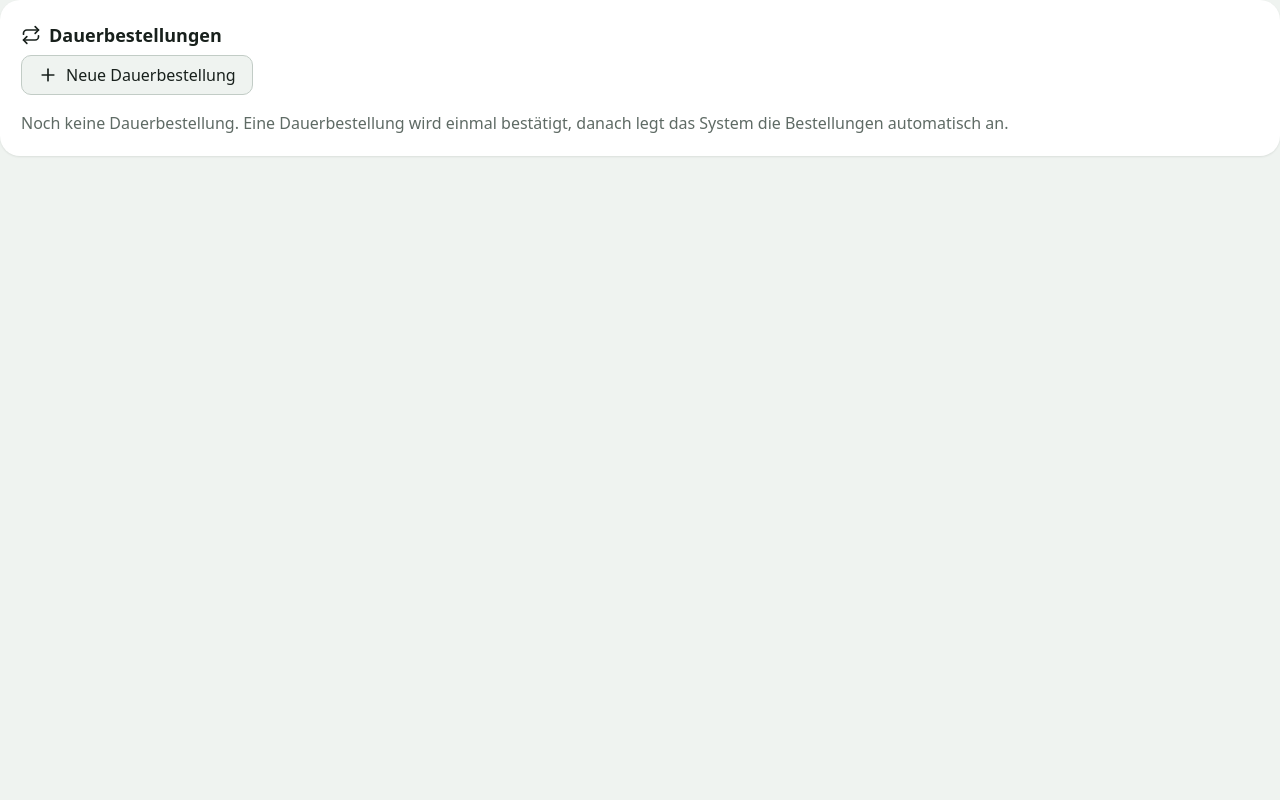
Test case: RecurringOrdersCard (NUD-149, NUD-171) › sends own rows of a selected day as dayItems and drops them when the day is unchecked
Later steps or results of the test are not shown.
Click the button with test id "recurring-new".
click(137, 75)  # box [21, 55, 253, 95]
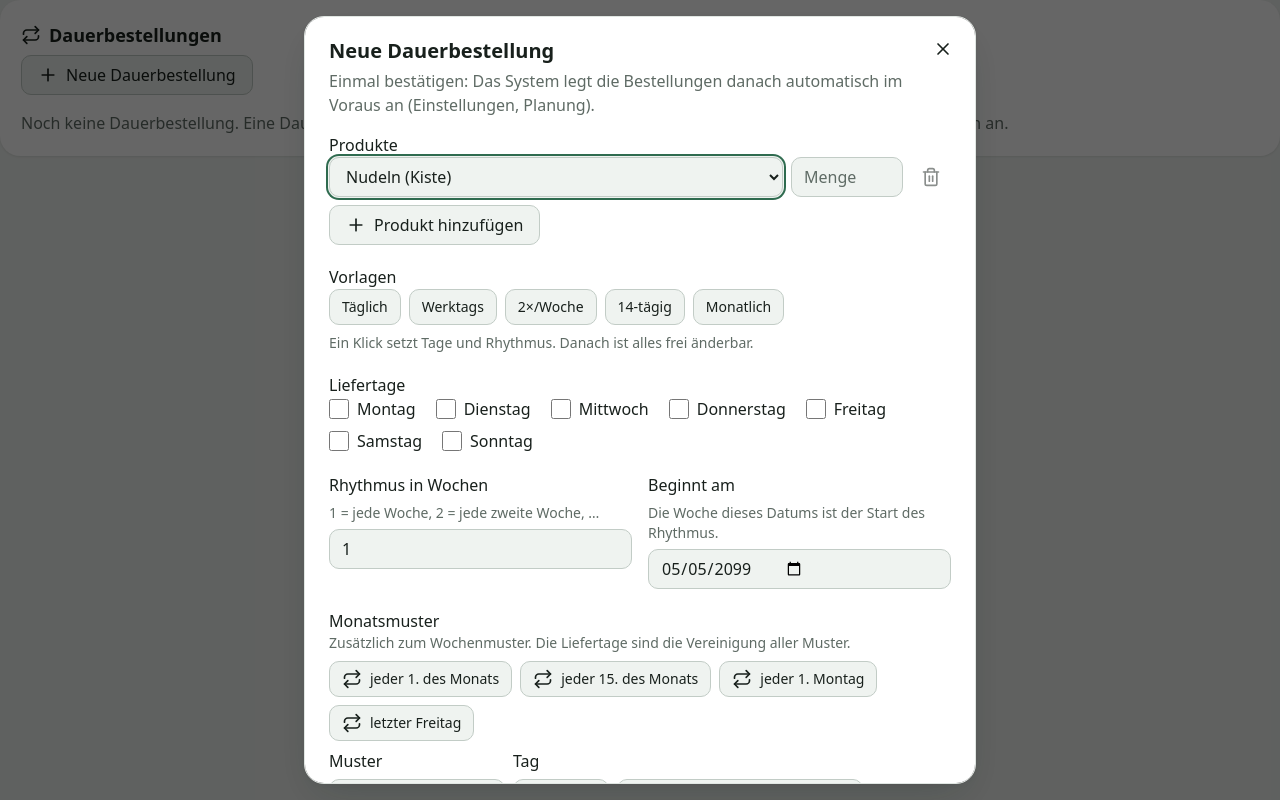
Select "Nudeln (Kiste)" in the dropdown with test id "recurring-line-product" at (556, 177), box [329, 157, 783, 197]
Type "2" into the field with test id "recurring-line-quantity".
click(847, 177); type("2")  # box [791, 157, 903, 197]
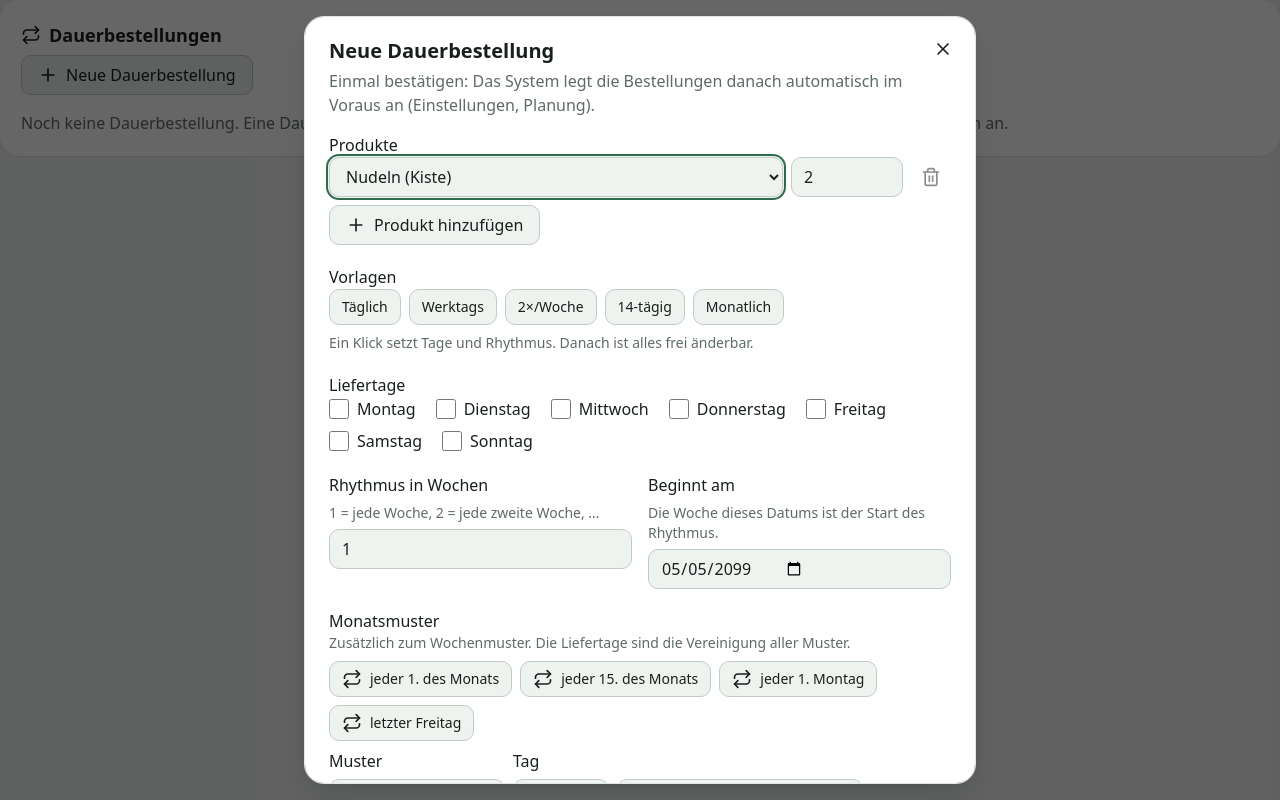
Click the checkbox with test id "recurring-weekday-2".
click(446, 409)  # box [436, 399, 456, 419]
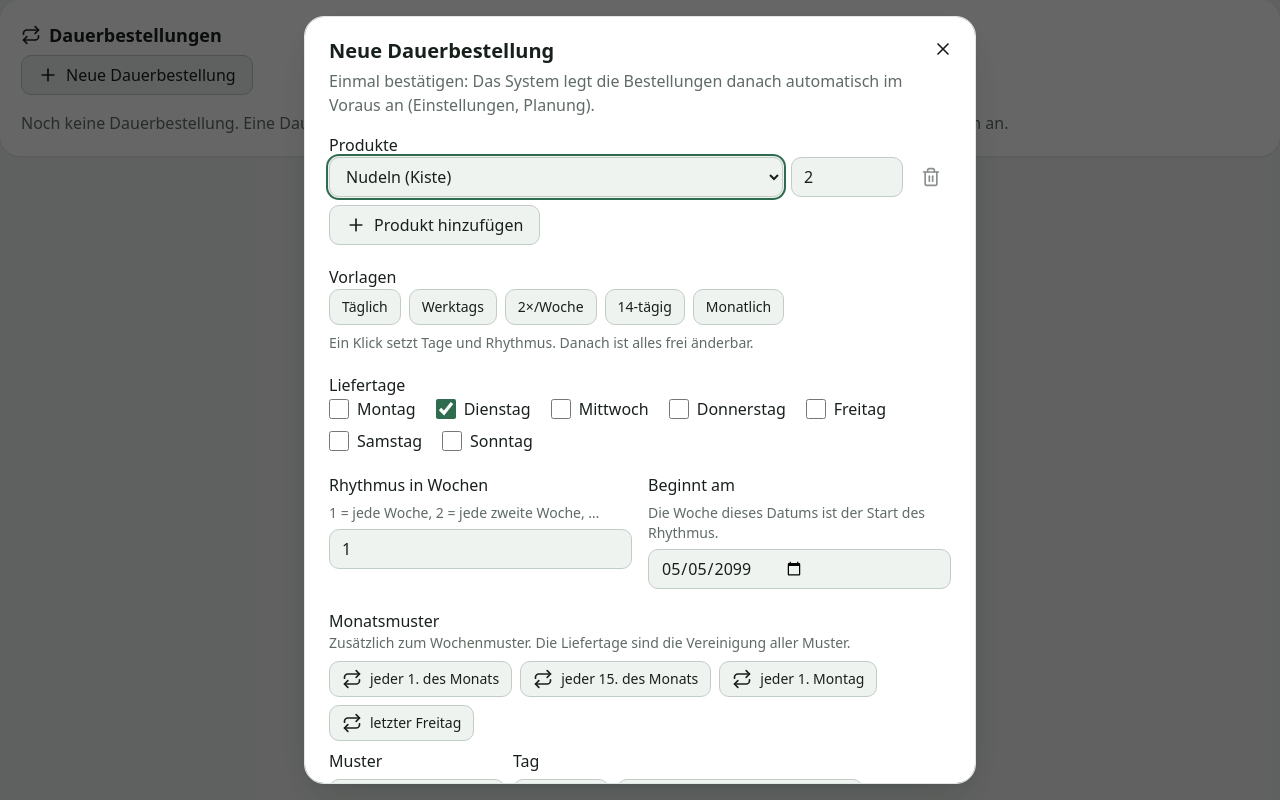
Click the checkbox with test id "recurring-weekday-4".
click(679, 409)  # box [669, 399, 689, 419]
(page scrolled)
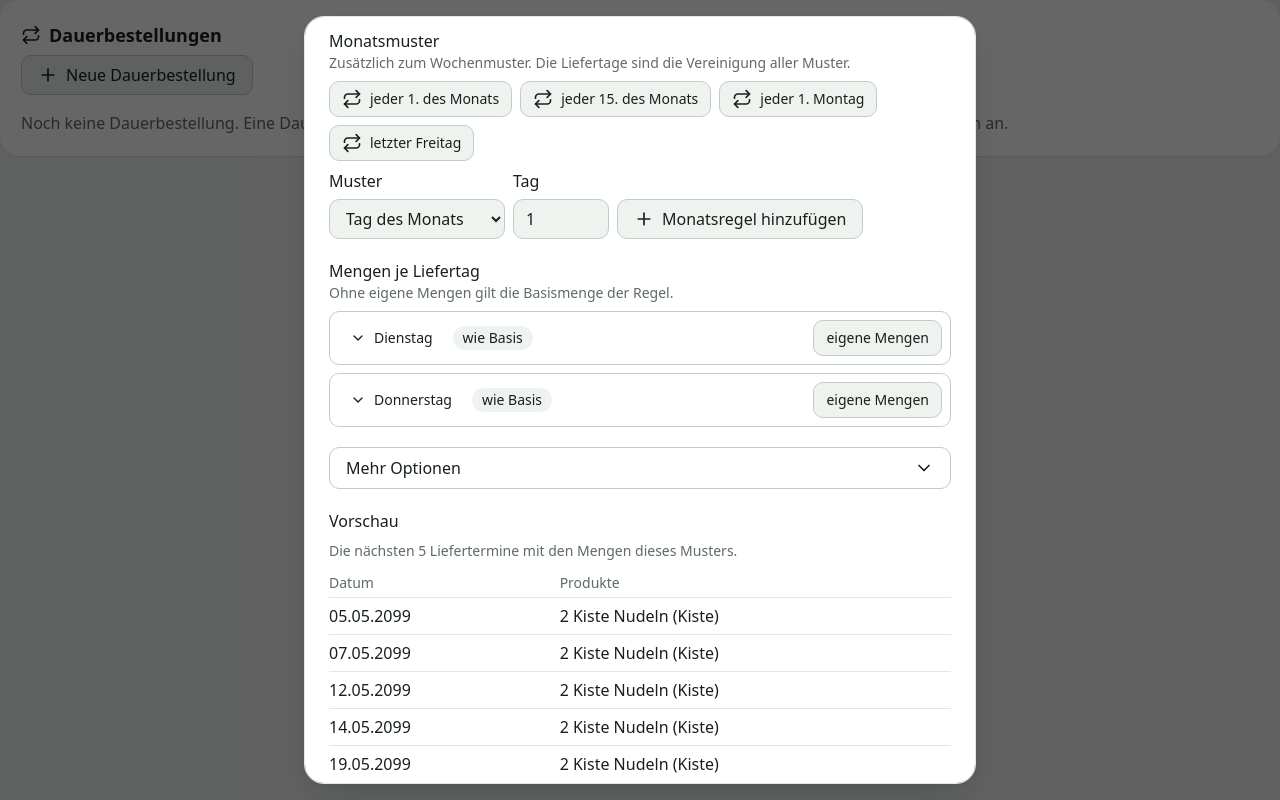
Check: the element with test id "recurring-day-card-2" is shown, box [329, 311, 951, 365]
Check: the element with test id "recurring-day-card-4" is shown, box [329, 373, 951, 427]
